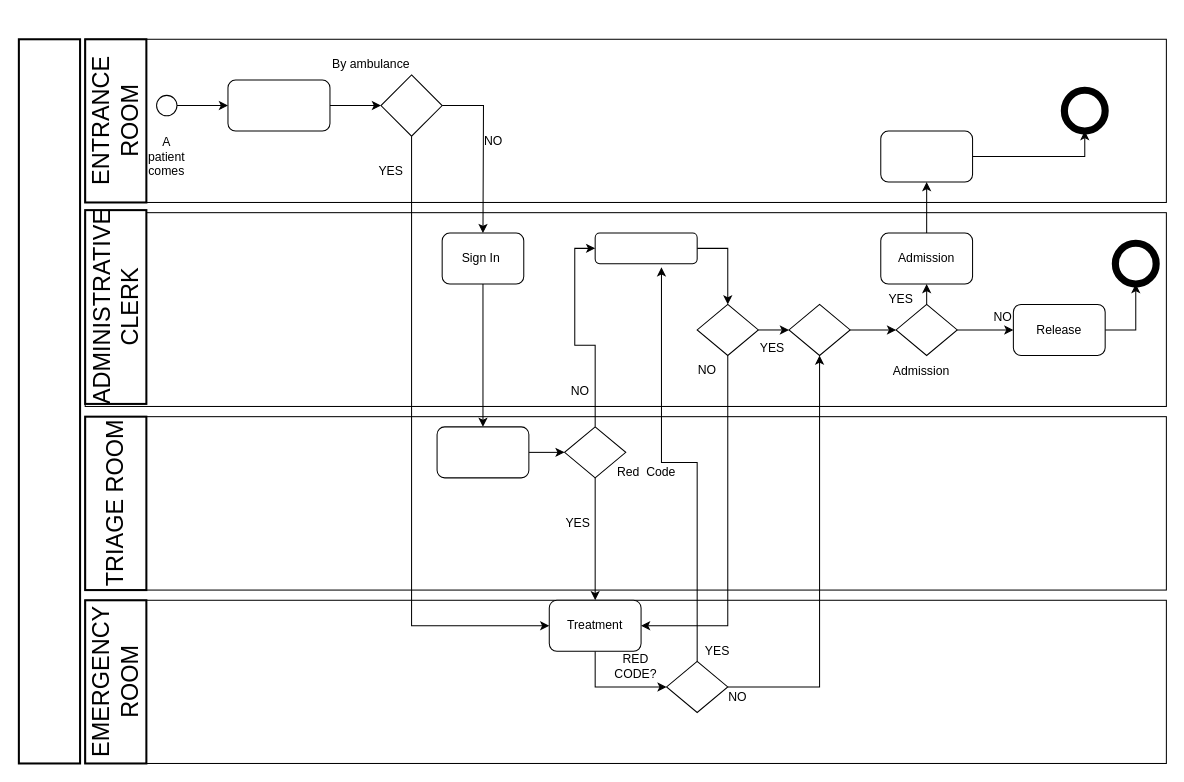
The diagram is 1184 pixels wide and 782 high, and some of its shapes have lost their labels. Each missing label, with the centre of its shape:
"Acceptation" goes at [278,105].
"Arrangement" goes at [926,156].
"HOSPITAL EMERGENCY SECTOR" goes at [49,401].
"Registration" goes at [645,248].
"Triage" goes at [482,452].
